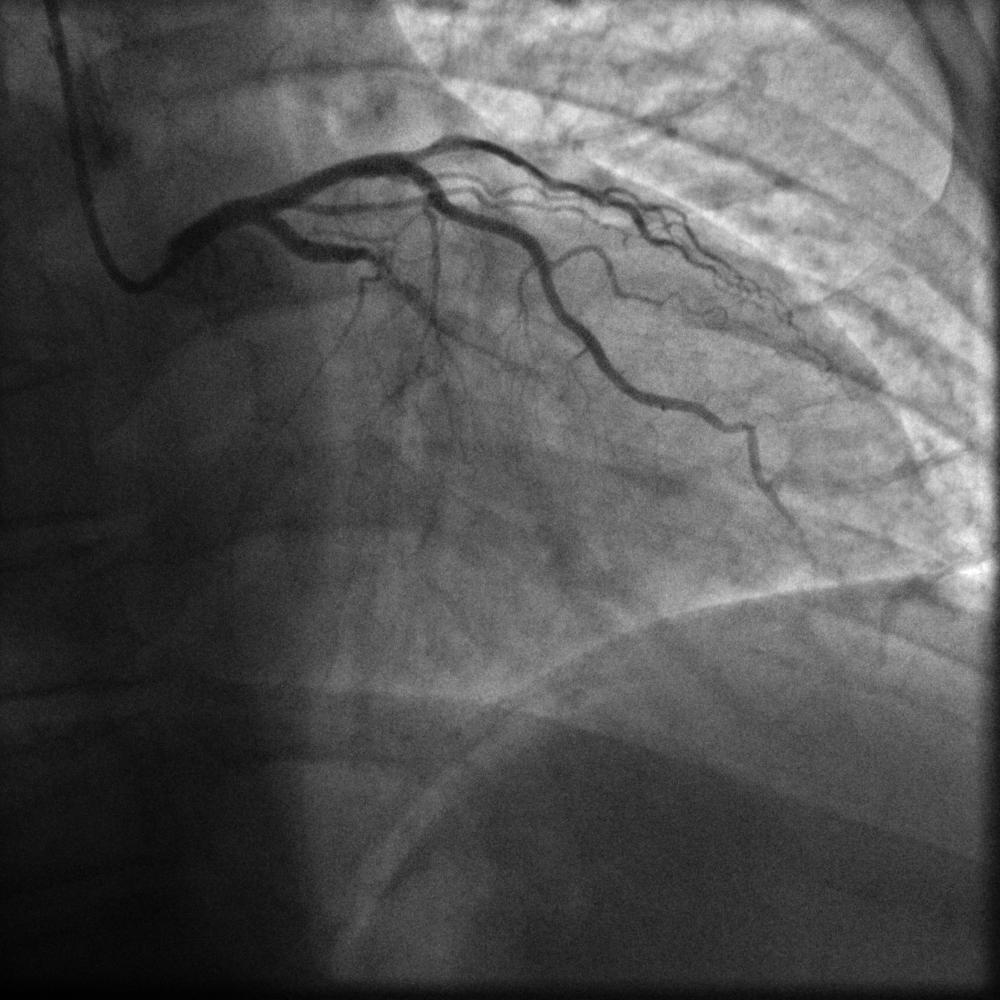Stenosis: (355, 243, 407, 293)
